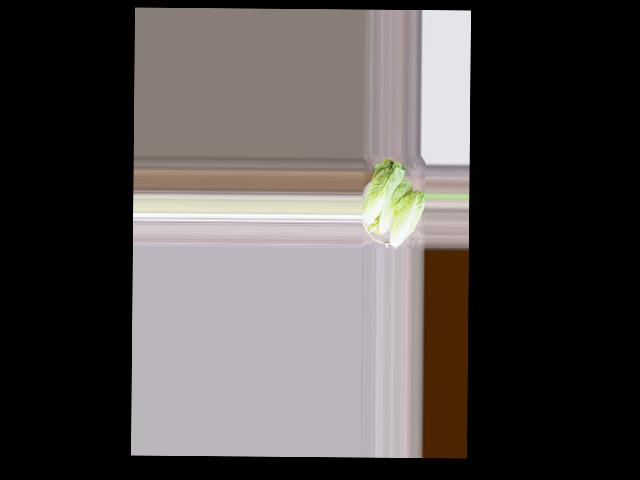lettuce: (361, 160, 406, 232)
